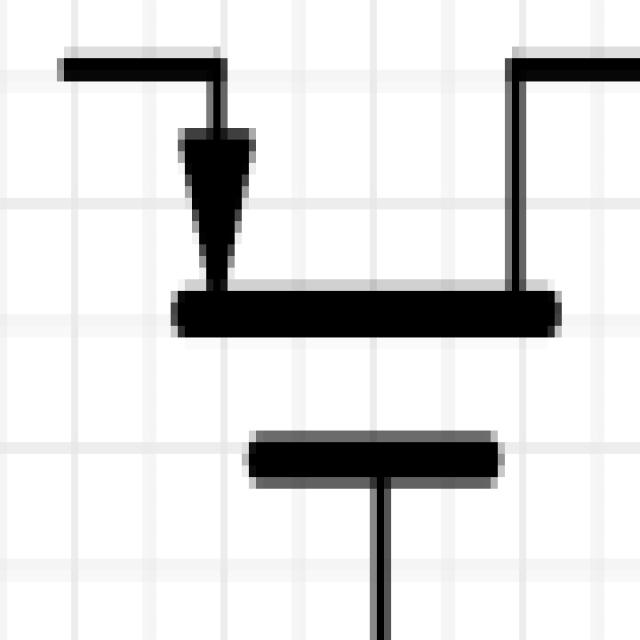pmos: (26, 0, 623, 640)
